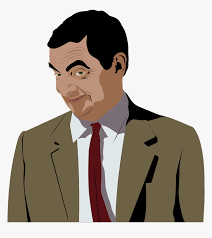mrbean: (4, 8, 206, 224)
